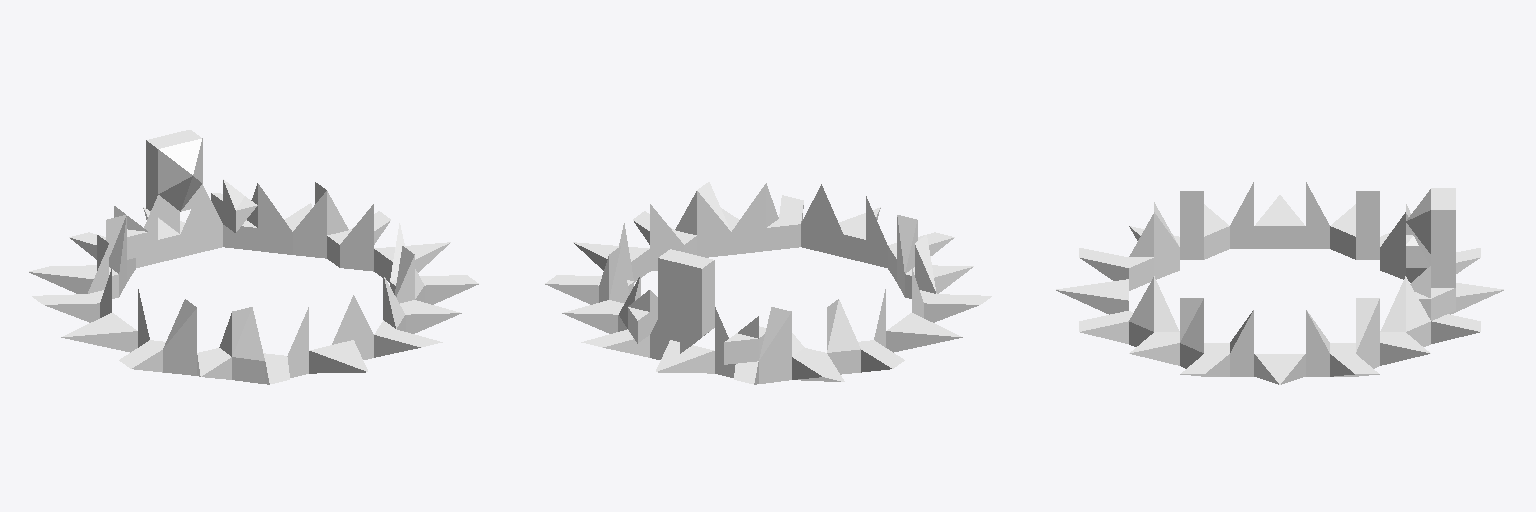
File: voidstar.obj
The picture shows the model from 3 angles: view 1: azimuth 30°, elevation 25°; view 2: azimuth 150°, elevation 25°; view 3: azimuth 270°, elevation 25°; orthographic projection.
Visible parts, largest first — view 1: Voidstar11; view 2: Voidstar11; view 3: Voidstar11.
Part boxes in pixels (left/top/right/bottom): Voidstar11: left=29, top=130, right=478, bottom=384; Voidstar11: left=545, top=182, right=991, bottom=384; Voidstar11: left=1056, top=182, right=1503, bottom=384.
Size of the model in its own units: 1.8 by 0.5 by 1.8.